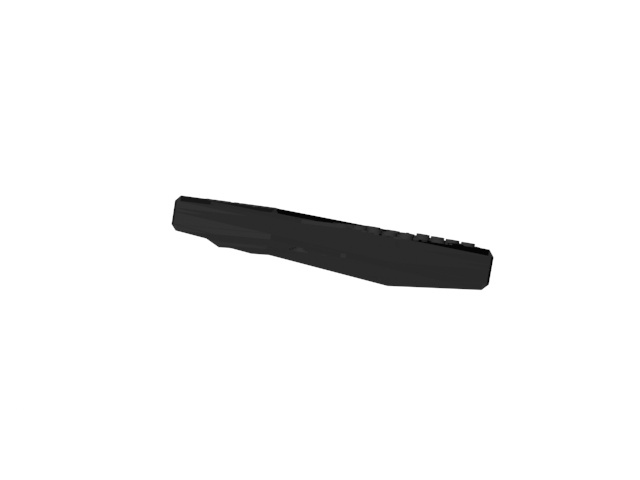mobile_phone: (169, 193, 496, 296)
